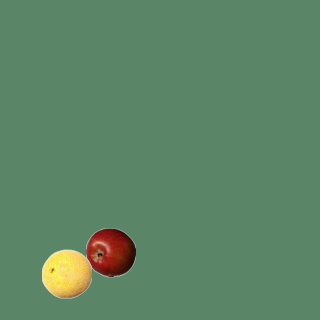Apple Braeburn: (85, 227, 135, 277)
Cantaloupe 1: (41, 248, 91, 298)
